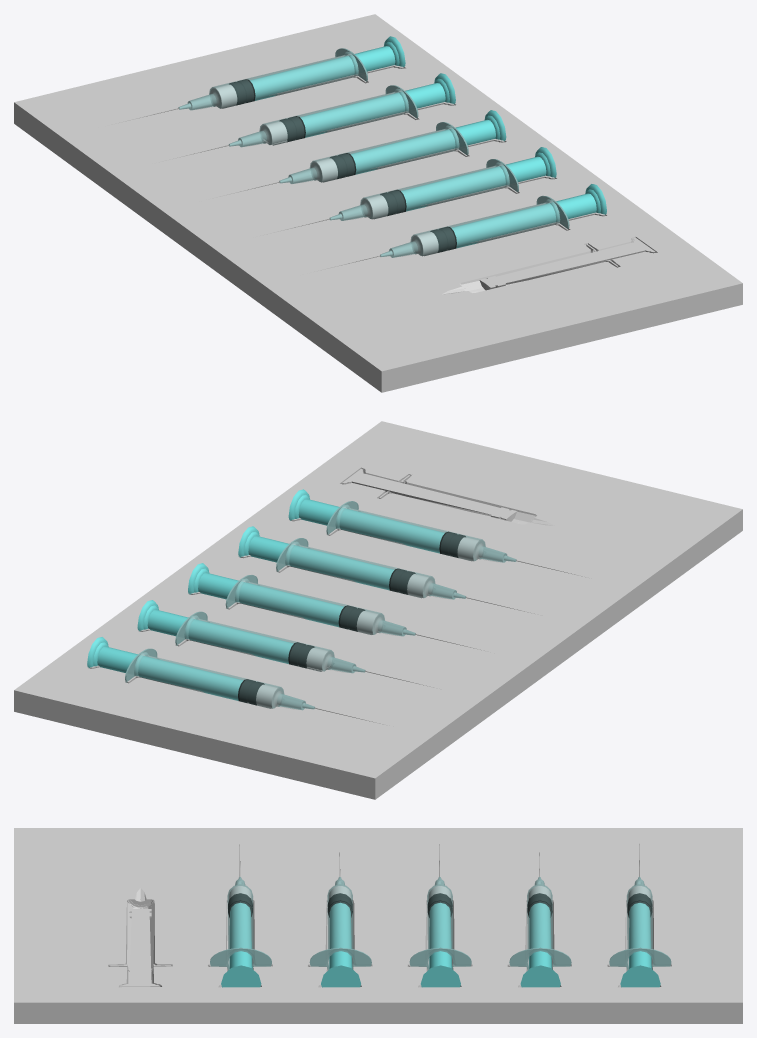
File: syringes.FBX
The picture shows the model from 3 angles, top to bottom: view 1: azimuth 30°, elevation 25°; view 2: azimuth 150°, elevation 25°; view 3: azimuth 270°, elevation 25°; orthographic projection.
Parts seen in each view (by area): view 1: Box001, syringe, syringe015, syringe012, syringe014, syringe013; view 2: Box001, syringe, syringe012, syringe014, syringe015, syringe013; view 3: Box001, syringe015, syringe, syringe012, syringe013, syringe014, color, color001, color004, color002, color003.
Part boxes in pixels (box(x1,y1,x2,y2)): Box001: box(14, 14, 742, 392); syringe: box(111, 46, 395, 124); syringe015: box(314, 193, 596, 271); syringe012: box(159, 83, 445, 162); syringe014: box(260, 156, 546, 235); syringe013: box(212, 119, 495, 198); Box001: box(14, 421, 742, 799); syringe: box(97, 646, 383, 724); syringe012: box(147, 609, 433, 687); syringe014: box(248, 536, 534, 613); syringe015: box(298, 499, 585, 577); syringe013: box(198, 572, 484, 650); Box001: box(14, 828, 742, 1023); syringe015: box(210, 844, 271, 970); syringe: box(609, 844, 671, 970); syringe012: box(509, 852, 571, 970); syringe013: box(409, 844, 471, 970); syringe014: box(309, 852, 371, 970); color: box(620, 965, 660, 987); color001: box(520, 965, 560, 987); color004: box(221, 965, 261, 987); color002: box(420, 965, 460, 987); color003: box(321, 965, 360, 987).
Bounding box in the file's own units: 16.57 × 1.91 × 29.21.
